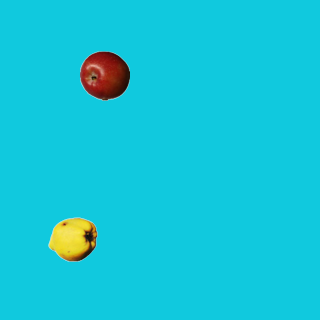Apple Braeburn: (79, 50, 129, 100)
Quince: (47, 214, 97, 264)
